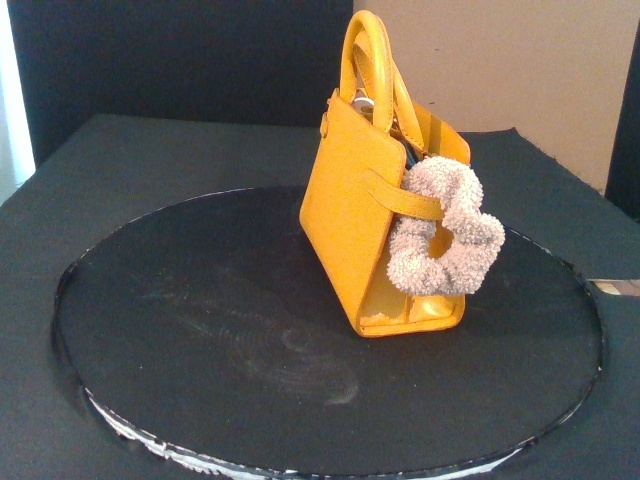bag: (298, 9, 472, 337)
